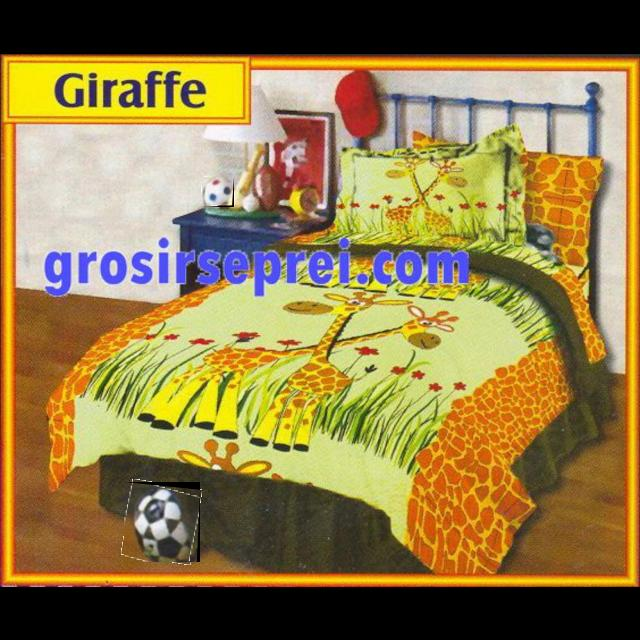Football: (124, 482, 200, 562), (202, 175, 234, 207)
